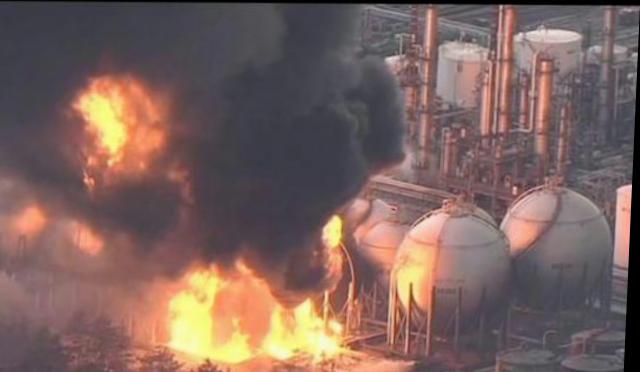fire: (76, 75, 167, 168), (167, 268, 220, 351), (261, 300, 300, 358), (218, 316, 252, 360), (296, 296, 322, 349), (313, 316, 343, 360), (323, 209, 343, 245)
